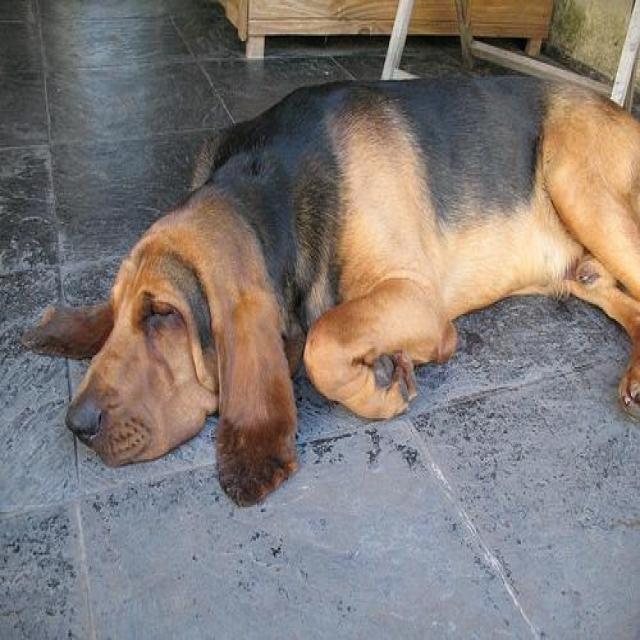bloodhound: (18, 73, 639, 510)
